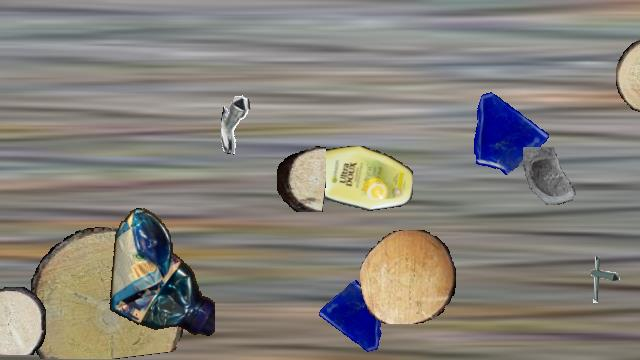glass: (461, 85, 551, 175), (317, 280, 395, 358), (517, 147, 585, 215)
metal: (221, 95, 283, 157), (576, 253, 628, 305)
plastic: (106, 206, 214, 342), (300, 146, 412, 212)
wood: (27, 227, 187, 359), (360, 230, 456, 324), (277, 145, 325, 211), (0, 287, 46, 355), (616, 36, 640, 114)
